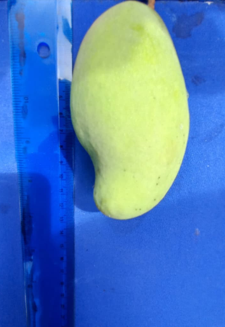Mango-sano: (70, 0, 189, 219)
